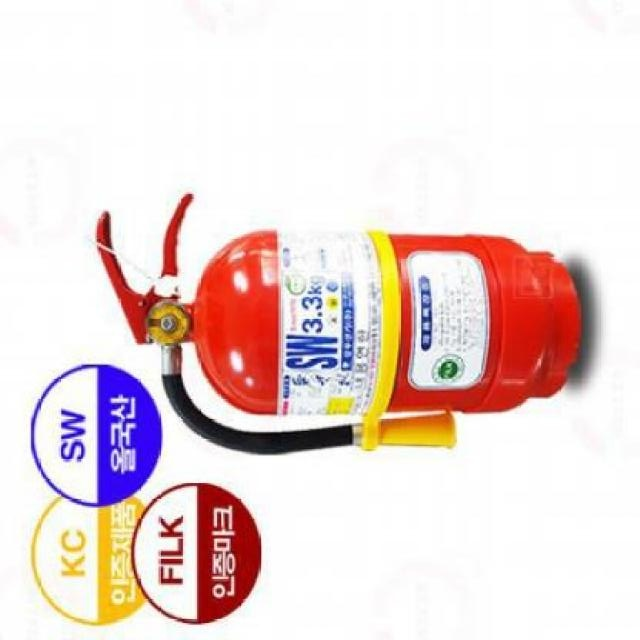fire extinguisher: (95, 192, 579, 456)
